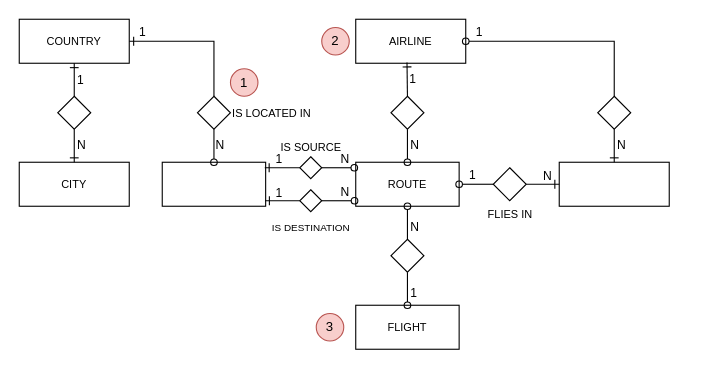
This 710x369 diagram has some shape labels left out. The box of each missing label's shape, as (x1, y1, x2, y2) in pixels:
AIRPORT: (161, 161, 266, 206)
BELONGS TO: (57, 95, 91, 129)
HAS LINES: (597, 95, 631, 129)
IS OPERATED BY: (390, 95, 424, 129)
OPERATES IN: (390, 238, 424, 272)
PLANE: (558, 161, 669, 206)
